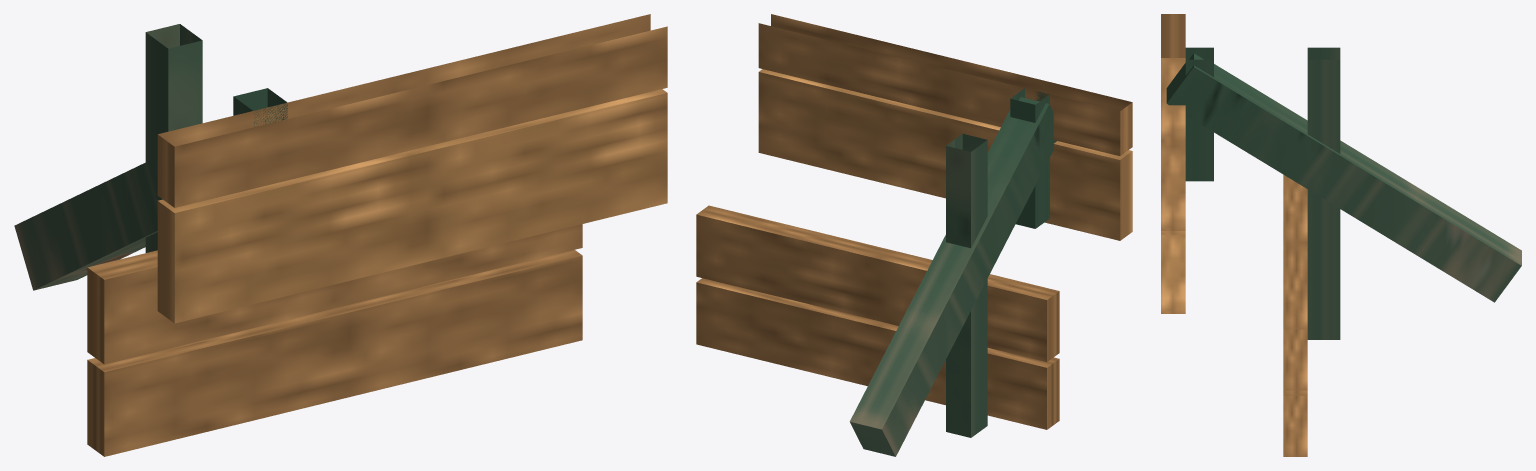
The model's file is section-1.obj.
The picture shows the model from 3 angles, left to right: view 1: azimuth 30°, elevation 25°; view 2: azimuth 150°, elevation 25°; view 3: azimuth 270°, elevation 25°; orthographic projection. The views are drawn at different scales.
Bounding box in the file's own units: 1 × 0.76 × 0.8864.
Materials: 1 (1 with a texture image).
